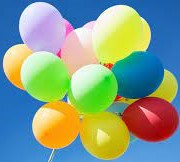Balloon: (92, 5, 141, 62), (122, 98, 180, 141), (113, 51, 164, 99), (18, 2, 65, 54), (68, 64, 117, 113), (20, 51, 69, 100), (78, 112, 129, 158), (33, 102, 79, 148)
